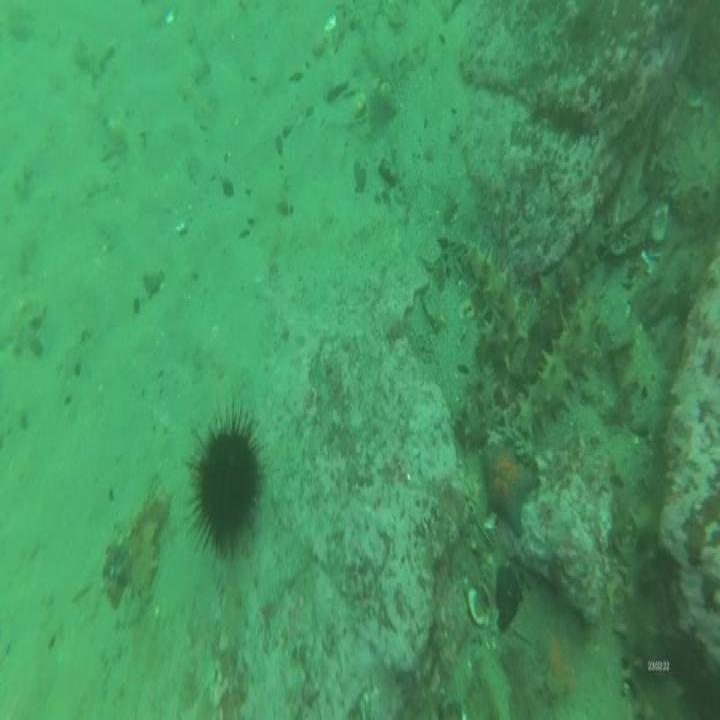echinus: (196, 434, 260, 551)
holothurian: (520, 299, 601, 425), (619, 505, 662, 716), (466, 246, 525, 364), (540, 219, 604, 295), (132, 491, 168, 597), (457, 370, 495, 450)
starfish: (482, 439, 536, 541)
